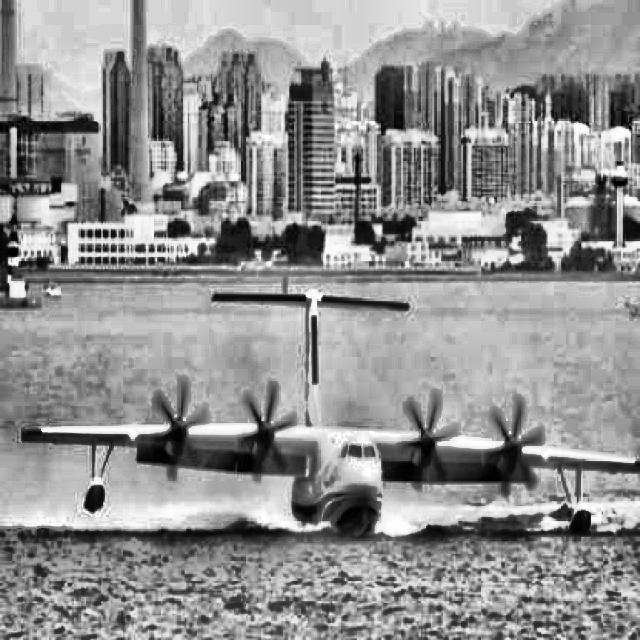AG600: (20, 288, 640, 540)
